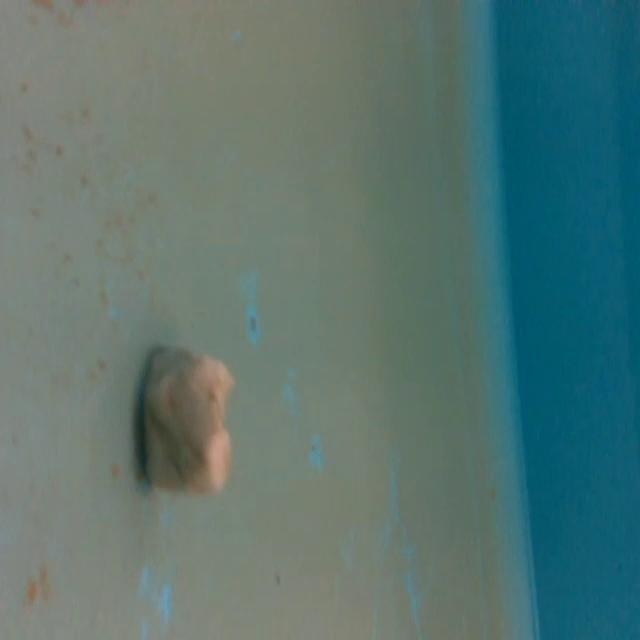rock: (139, 334, 237, 508)
